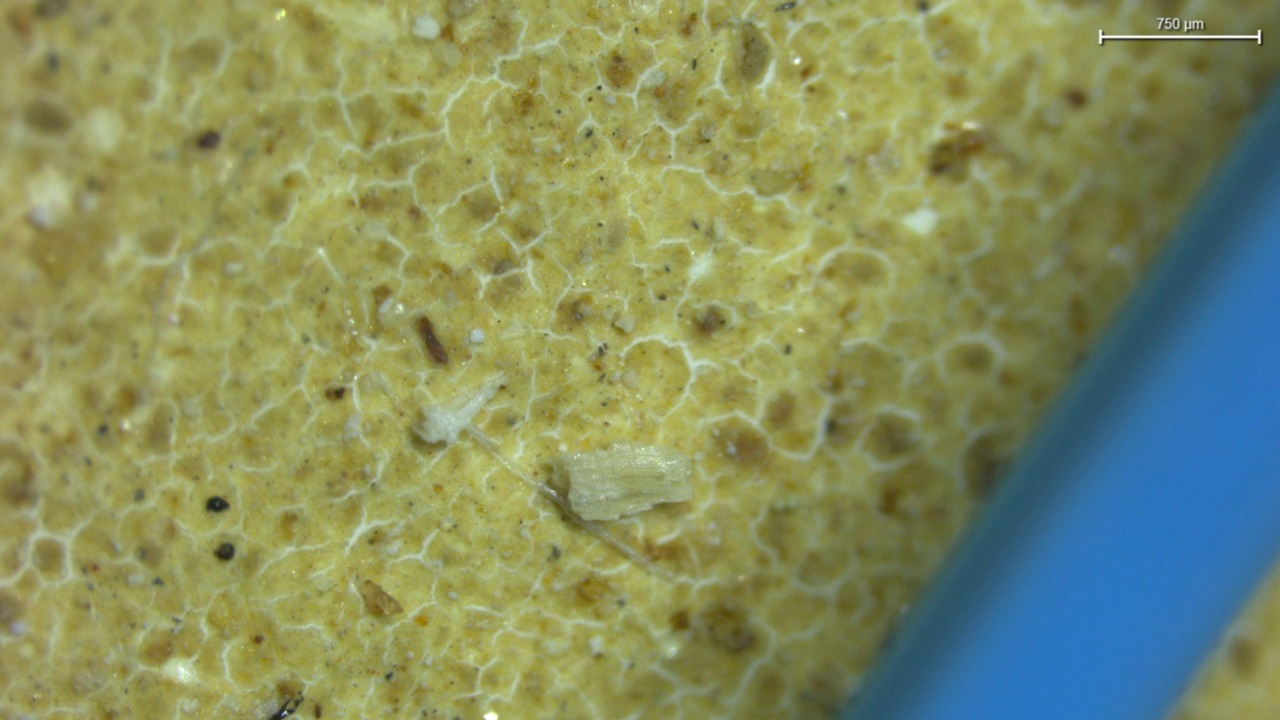microplastic_fragment: (552, 443, 692, 520), (412, 376, 504, 444)
